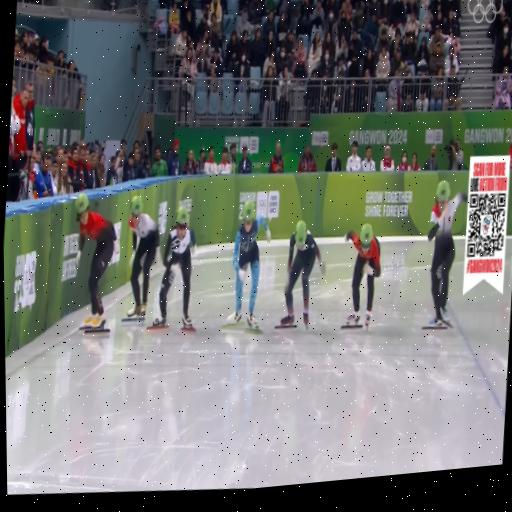Skater: (75, 193, 119, 328), (428, 181, 467, 326), (227, 202, 271, 328), (153, 207, 195, 330), (281, 221, 325, 327), (128, 196, 159, 318), (346, 224, 381, 328)
